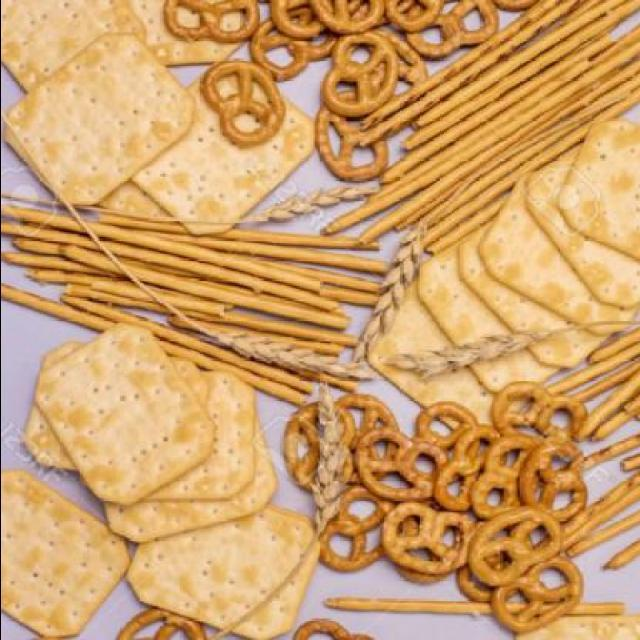Salatini packaged: (5, 19, 617, 639)
